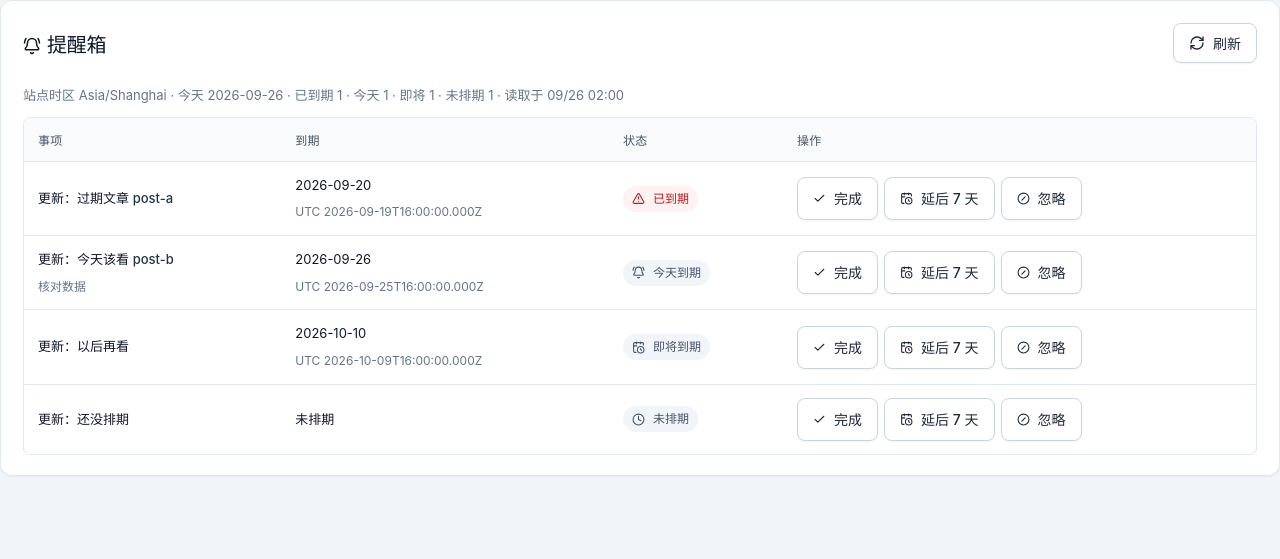
Test: ReminderInboxPanel（O04 提醒箱界面） › 失败时如实报错，不假装成功
Click the button "完成" in the row of "更新：过期文章" at (838, 199), box left=797, top=177, right=878, bottom=220
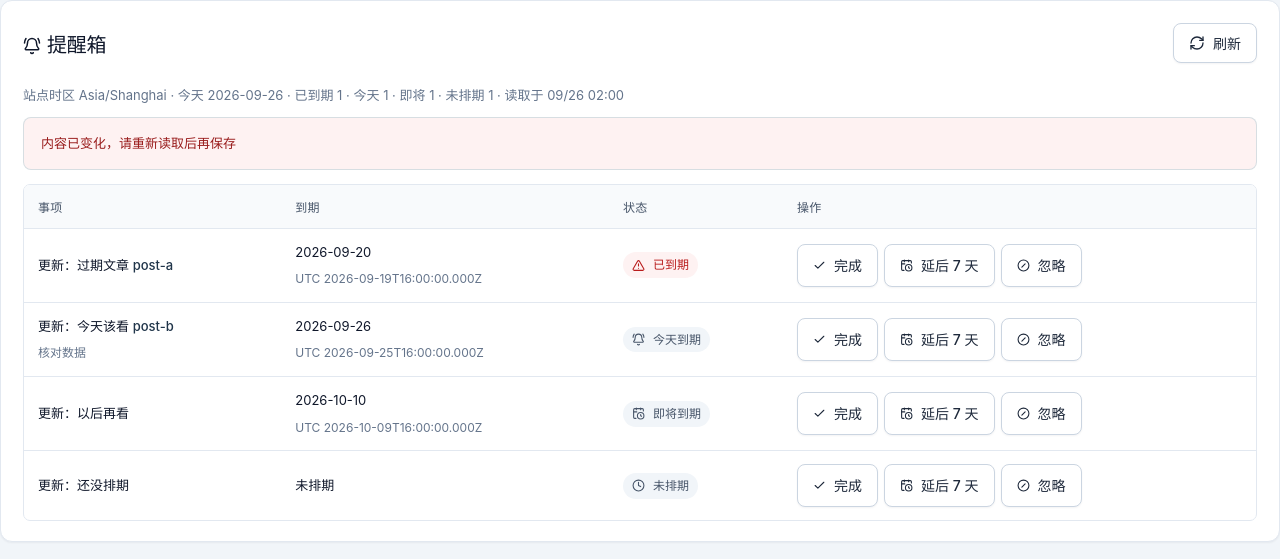
Now the text "内容已变化，请重新读取后再保存" is shown, box left=23, top=117, right=1257, bottom=170
